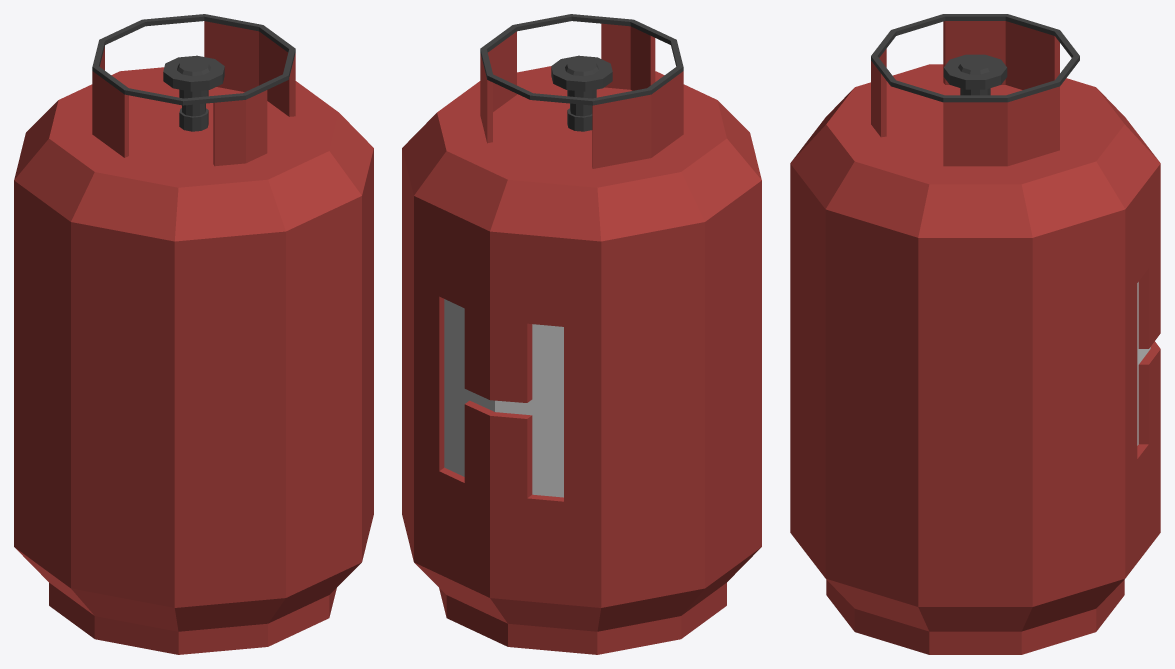
Rendered from hydrogen_element.fbx.
3 renders of one model, left to right at view 1: azimuth 30°, elevation 25°; view 2: azimuth 150°, elevation 25°; view 3: azimuth 270°, elevation 25°, orthographic.
Visible parts, largest first — view 1: Cylinder; view 2: Cylinder; view 3: Cylinder.
Part boxes in pixels (left/top/right/bottom): Cylinder: left=14, top=14, right=373, bottom=654; Cylinder: left=402, top=14, right=761, bottom=654; Cylinder: left=790, top=14, right=1160, bottom=654.
Size of the model in its own units: 43.1 by 72.72 by 45.31.
